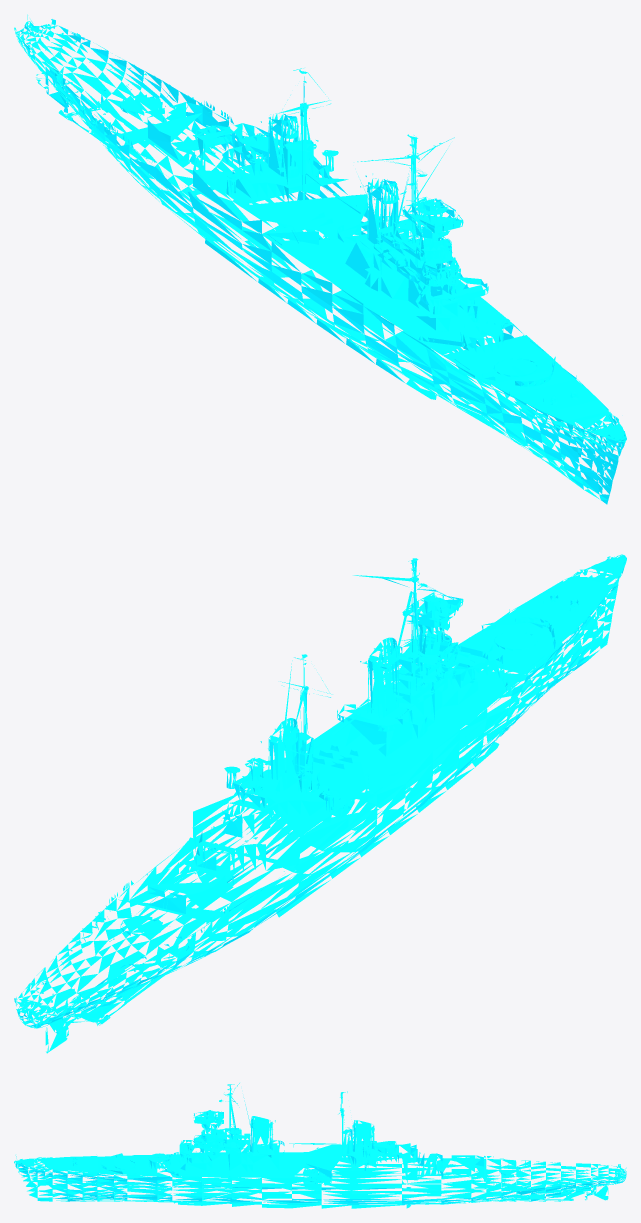
Rendered from Bagration.glb.
3 views of the same model, one above another, from view 1: azimuth 30°, elevation 25°; view 2: azimuth 150°, elevation 25°; view 3: azimuth 270°, elevation 25° (orthographic). The views are drawn at different scales.
Bounding box in the file's own units: 1.54 × 2.93 × 14.01.
